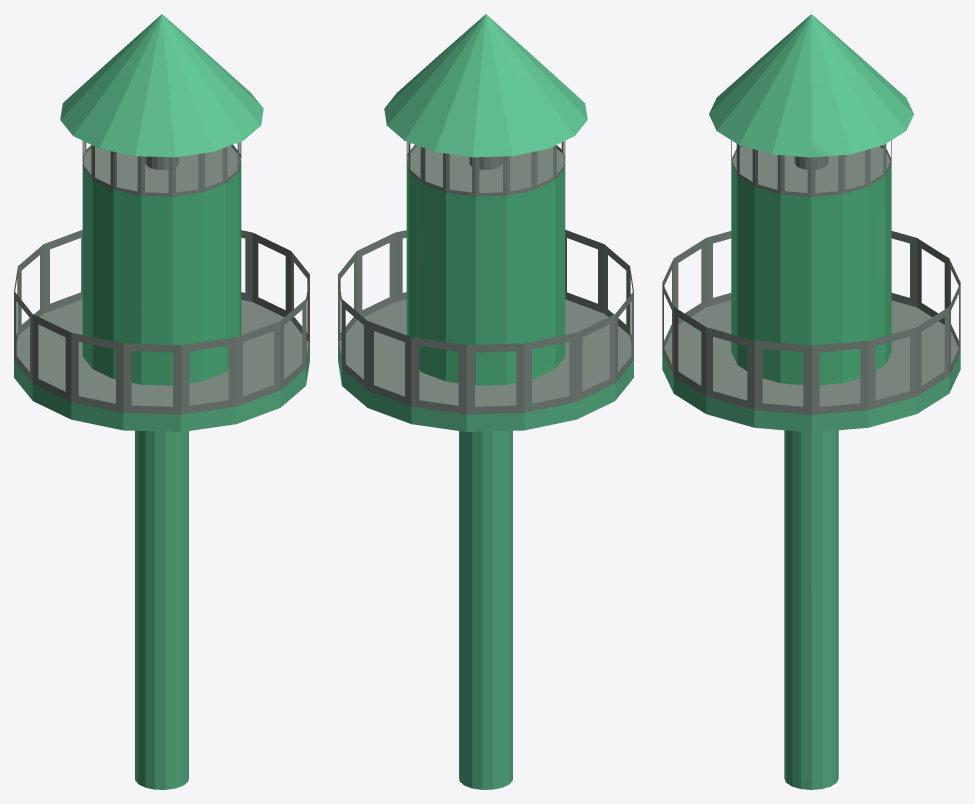
Rendered from buoy.glb.
3 views of the same model, side by side, from view 1: azimuth 30°, elevation 25°; view 2: azimuth 150°, elevation 25°; view 3: azimuth 270°, elevation 25° (orthographic).
Visible parts, largest first — view 1: Object_2; view 2: Object_2; view 3: Object_2.
Boxes of the visible parts, bbox=[...] form: Object_2: bbox=[14, 14, 309, 789]; Object_2: bbox=[338, 14, 633, 789]; Object_2: bbox=[662, 14, 960, 789].
Size of the model in its own units: 0.5245 by 1.48 by 0.5245.
1 material, 1 textured.
